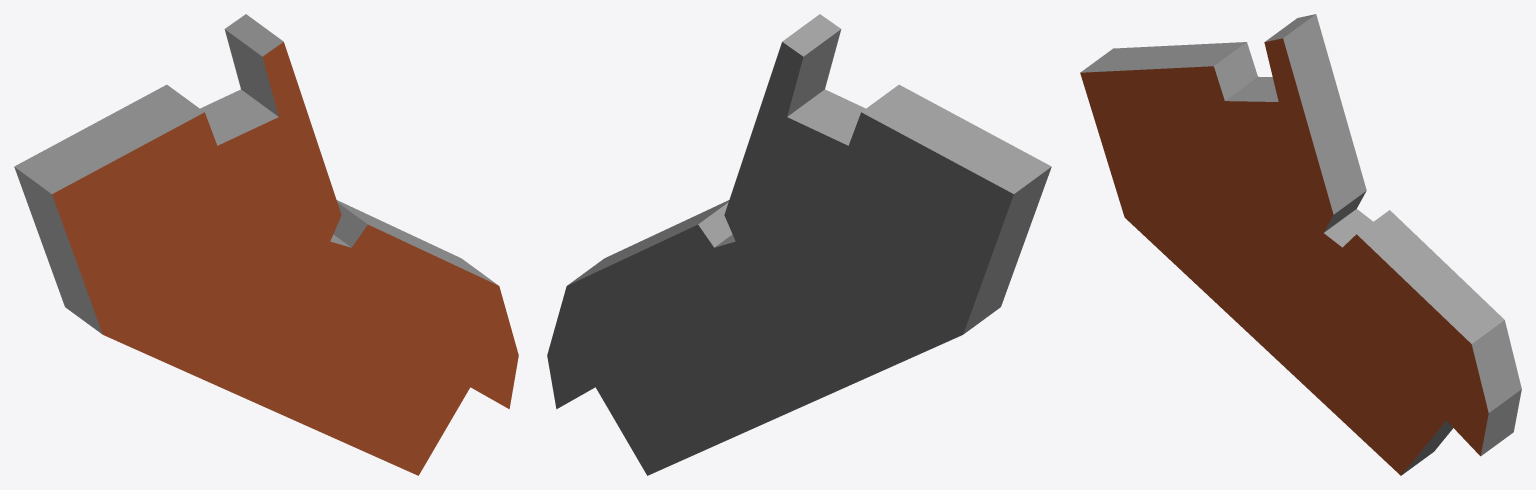
Rendered from construction_4251_assumed_A_Casa_h6m.obj.
The picture shows the model from 3 angles, left to right: view 1: azimuth 30°, elevation 25°; view 2: azimuth 150°, elevation 25°; view 3: azimuth 330°, elevation 25°; orthographic projection. The views are drawn at different scales.
Parts seen in each view (by area): view 1: construction_4251_assumed_A_Casa; view 2: construction_4251_assumed_A_Casa; view 3: construction_4251_assumed_A_Casa.
Part boxes in pixels (left/top/right/bottom): construction_4251_assumed_A_Casa: left=14, top=14, right=518, bottom=475; construction_4251_assumed_A_Casa: left=547, top=14, right=1051, bottom=475; construction_4251_assumed_A_Casa: left=1080, top=14, right=1521, bottom=475.
Bounding box in the file's own units: 42.7 × 40.83 × 6.
